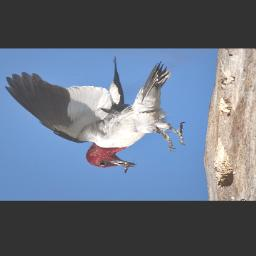Woodpecker: (5, 57, 186, 171)
